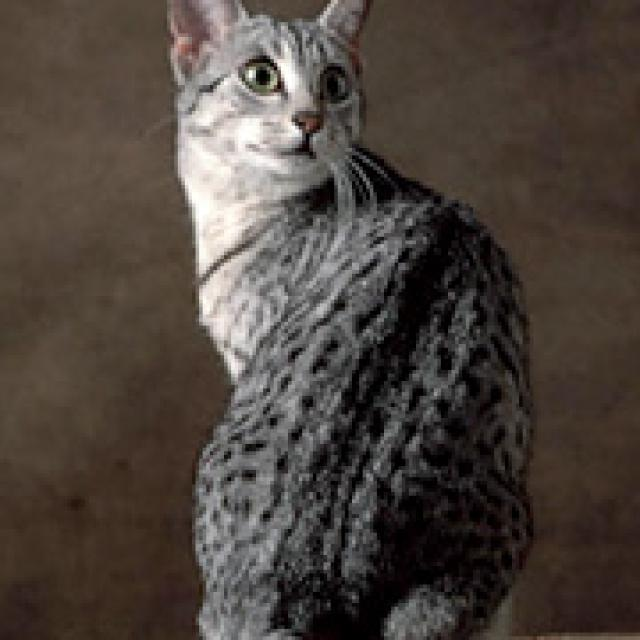Egyptian Mau: (160, 0, 544, 640)
